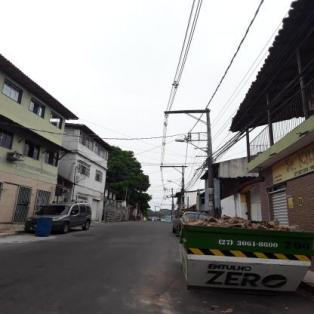Poste: (204, 108, 224, 208)
